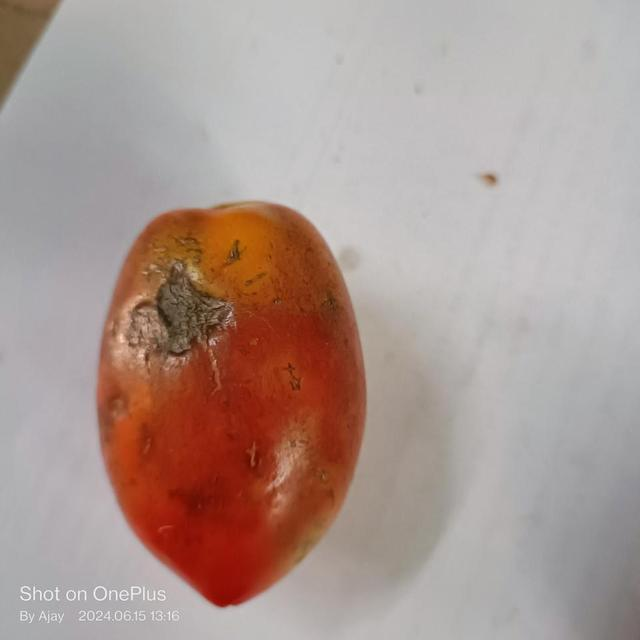Bacterial Spot Fruit: (80, 173, 158, 239)
